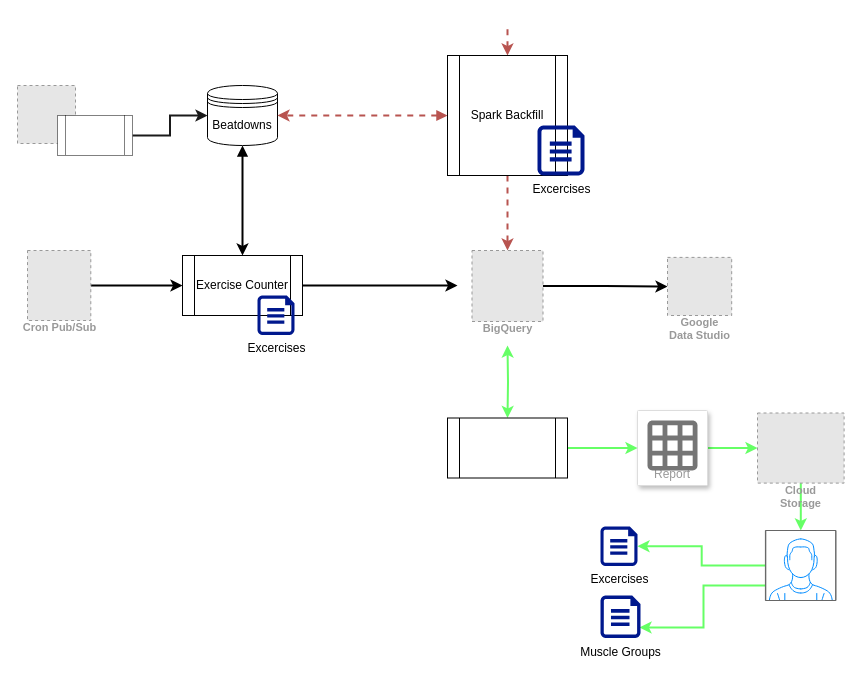
Image size: 862x676. Some labels were removed from this diagram. Grey dashed boxes stand in for pictures. Here are the shapes that lost their labels. From the top down, the centre of each, then its label:
At point 94,135: "PAXMiner".
At point 507,447: "Unknown Words Analyzer".
At point 800,565: "Manual Review".
